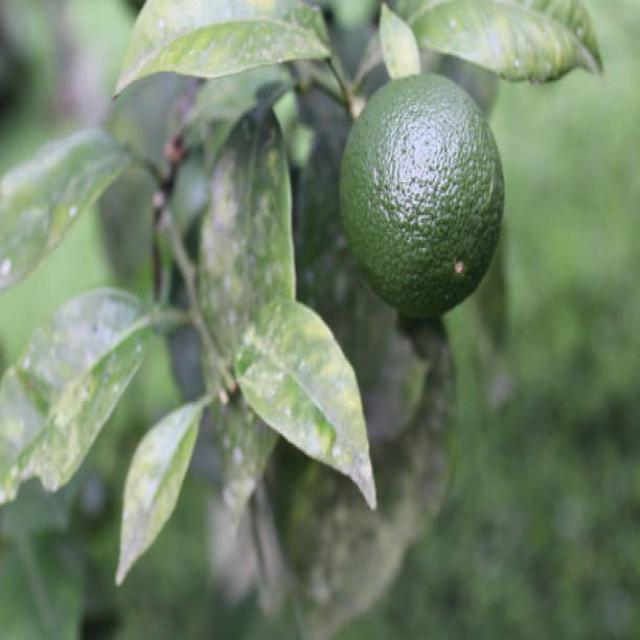Unripe: (336, 74, 506, 320)
